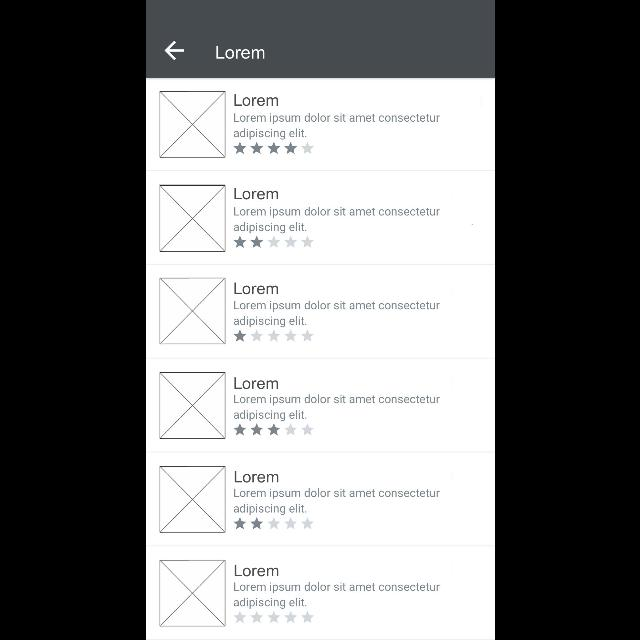icon: (233, 516, 313, 530), (232, 330, 314, 342), (232, 611, 314, 623), (233, 142, 313, 154), (233, 236, 313, 248), (233, 424, 313, 436), (163, 41, 183, 61)
image: (159, 185, 225, 252), (159, 91, 225, 157), (159, 278, 225, 344), (159, 372, 225, 438), (159, 466, 225, 532), (159, 560, 225, 626)
text: (232, 488, 440, 516), (233, 206, 439, 234), (233, 394, 439, 422), (233, 582, 439, 608), (233, 114, 439, 140), (233, 301, 439, 327), (216, 46, 264, 59), (233, 94, 277, 106), (234, 188, 278, 200), (233, 282, 277, 294), (233, 377, 277, 389), (234, 471, 278, 483), (234, 565, 278, 577)
